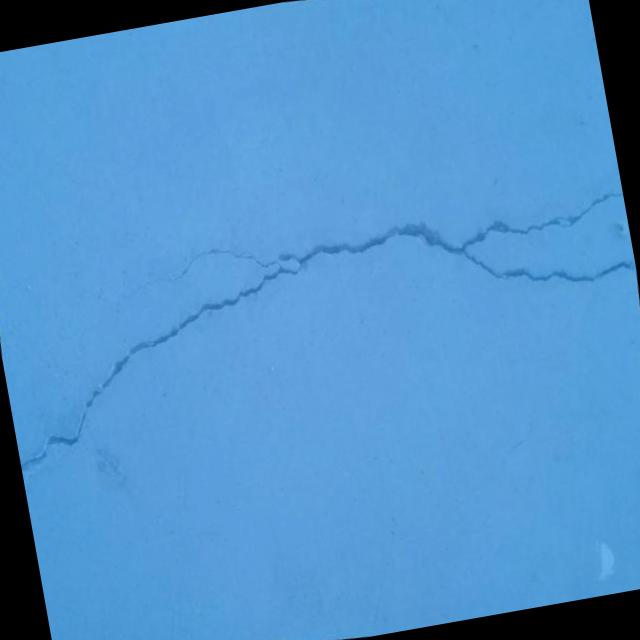crack: (0, 146, 640, 519)
